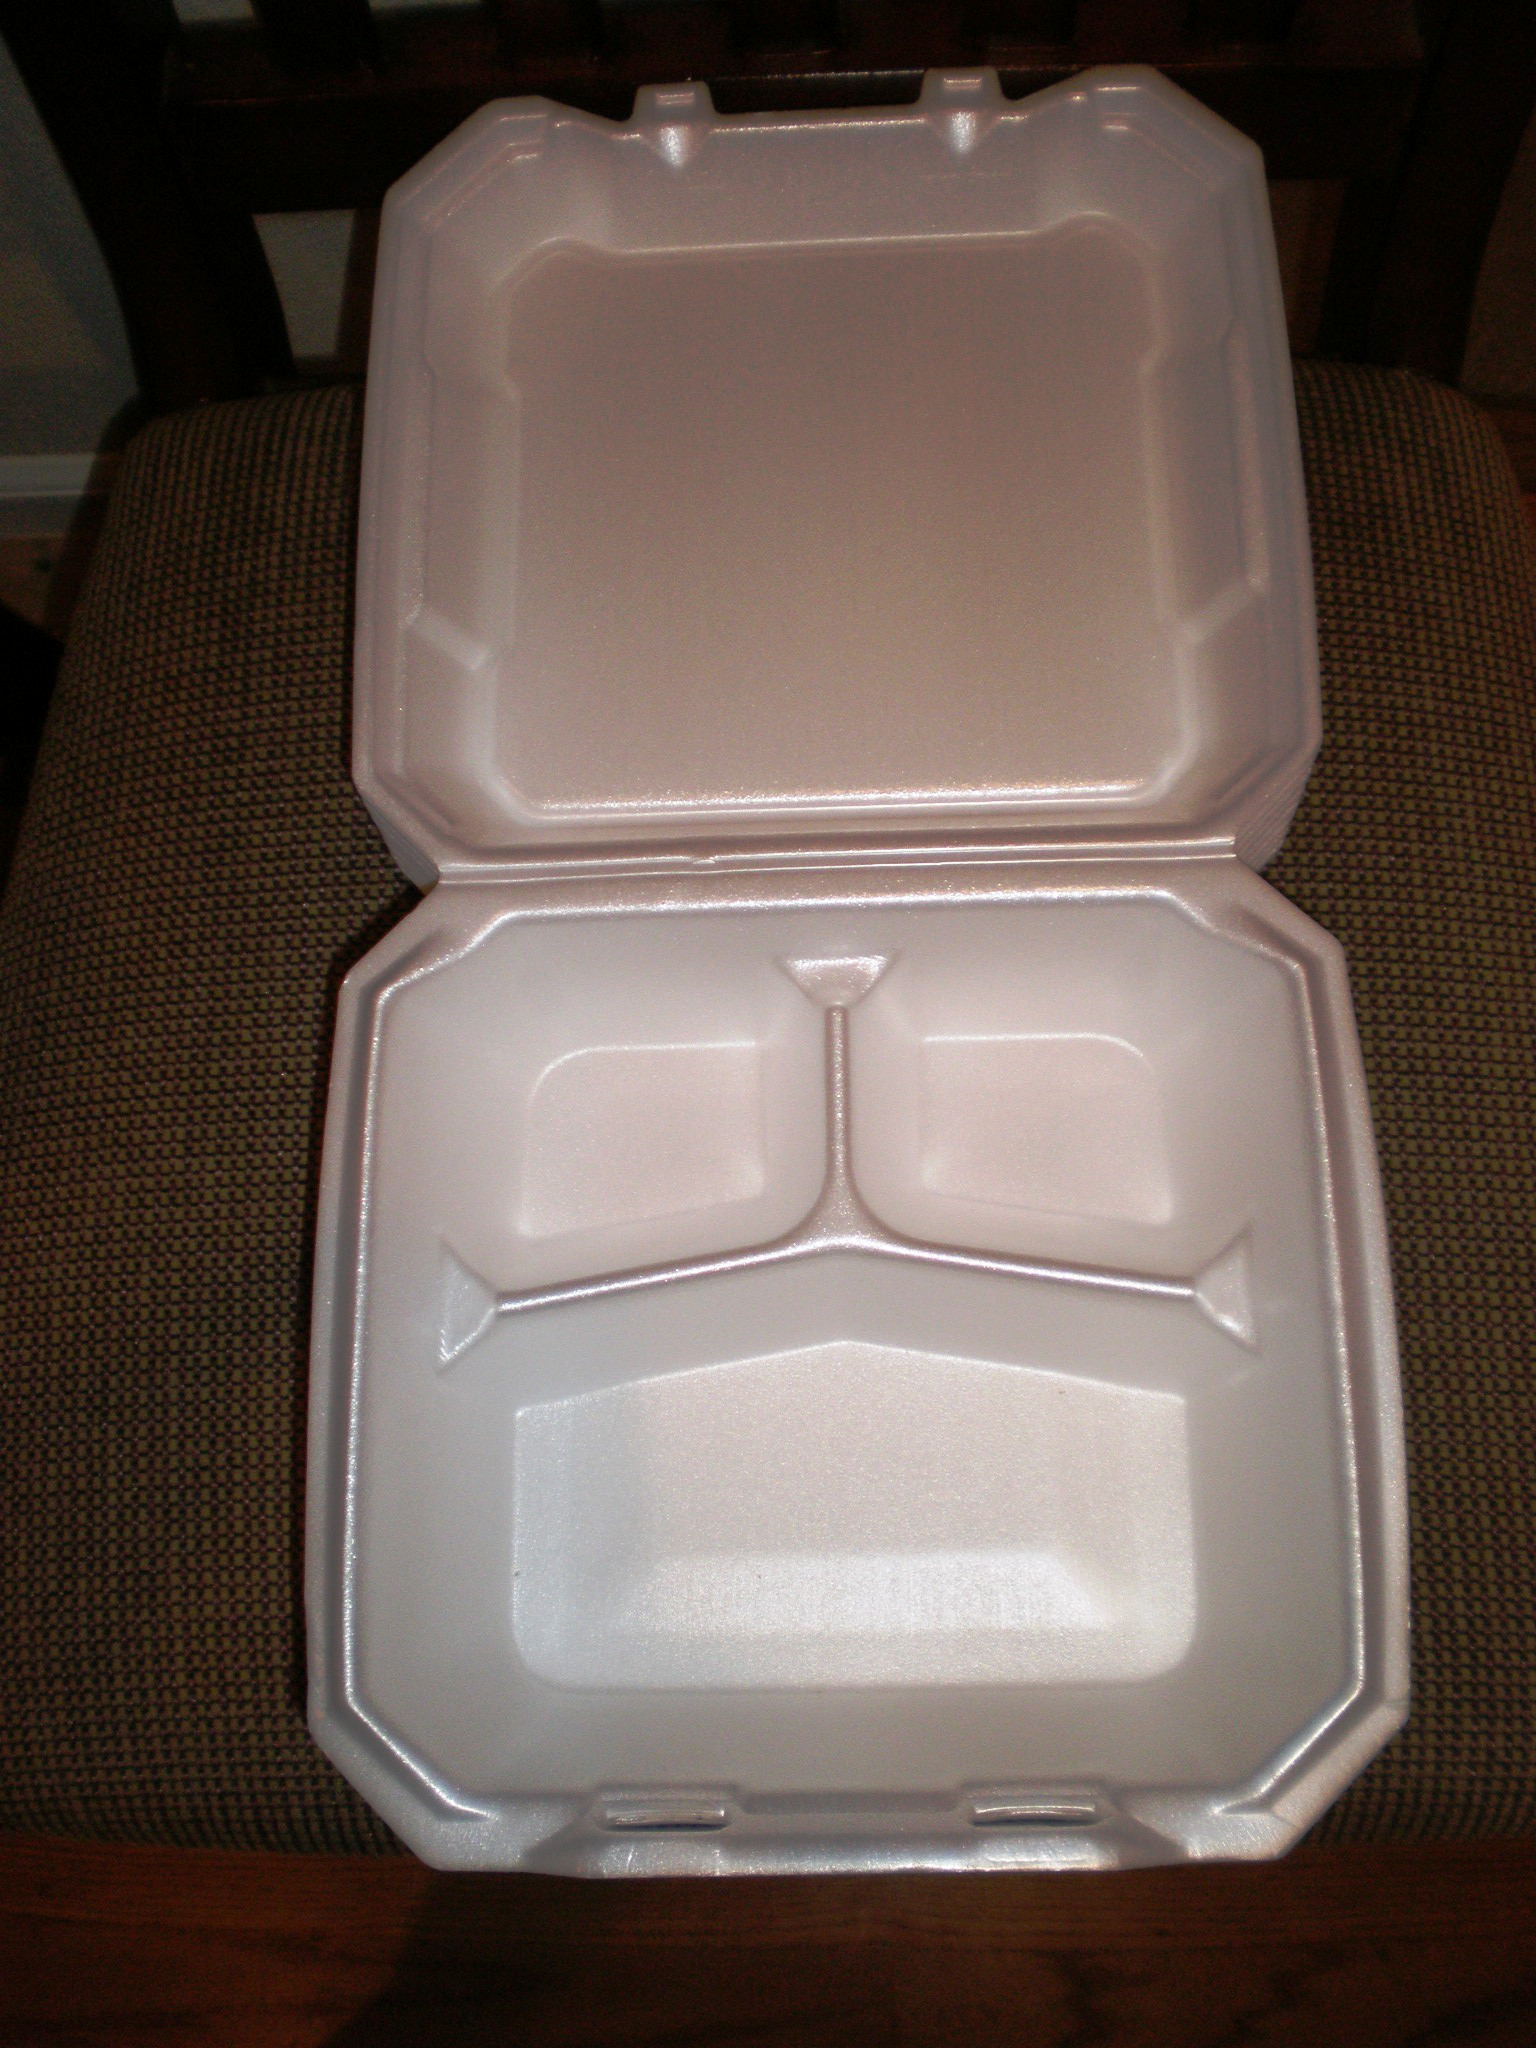Nonrec_Plastic: (257, 68, 1433, 1900)
